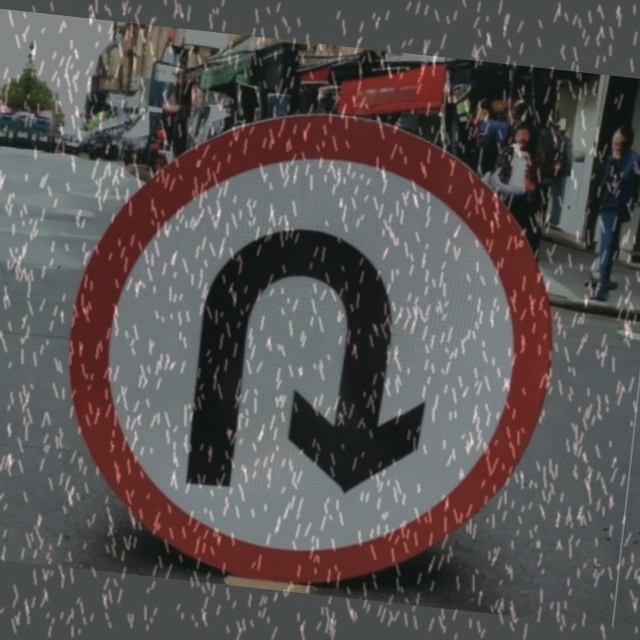U_Turn_Ahead: (106, 150, 539, 566)
